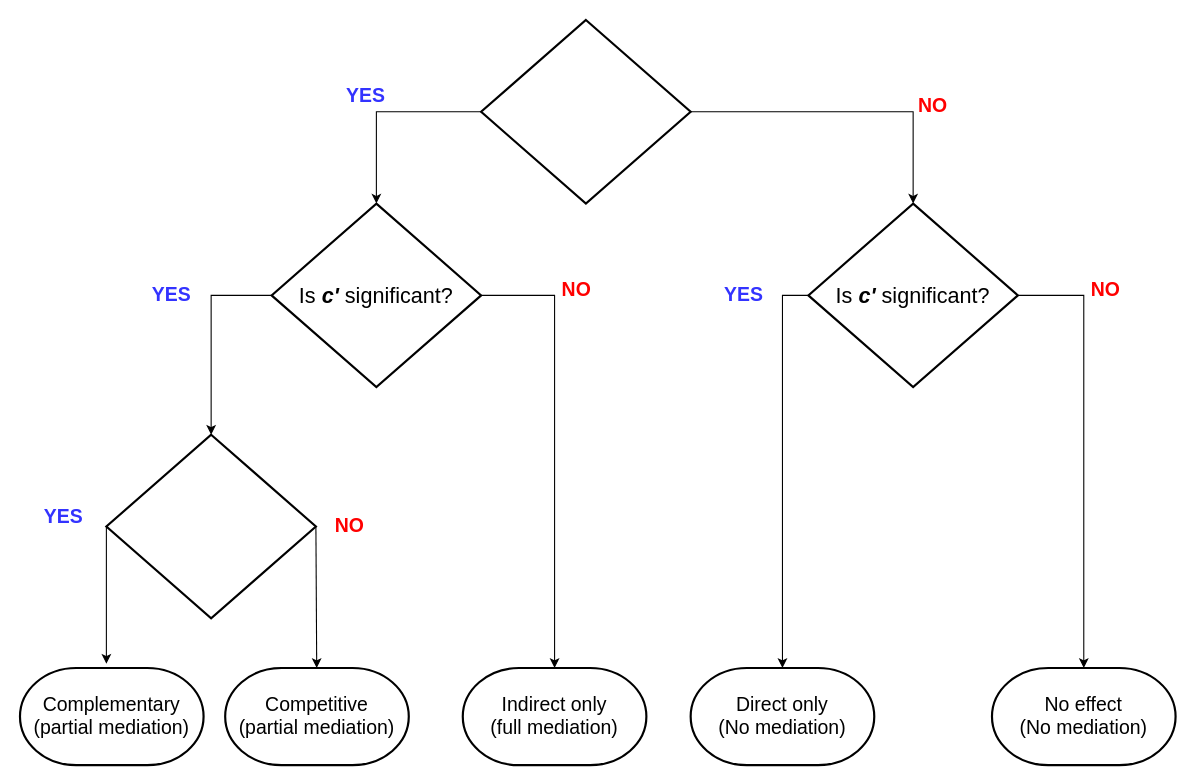
Image size: 1194x784. Some labels were removed from this diagram. The shapes that lost their labels are listed below. From the top down, each one's centre as x and y in pixels, then its label:
[585,111]: Is a*b significant?
[210,526]: Is a*b*c' positive?
